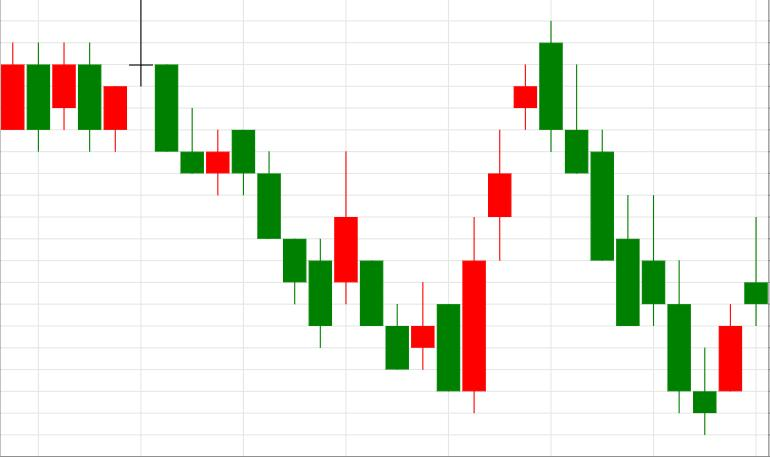bullish_engulfing_rise: (231, 129, 486, 413)
morning_star_rise: (539, 20, 742, 435)
